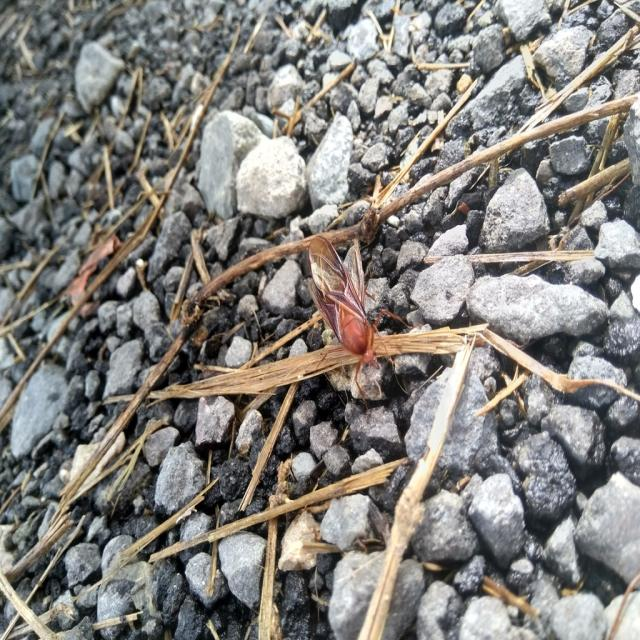Alive-Male-Alate: (308, 233, 421, 424)
